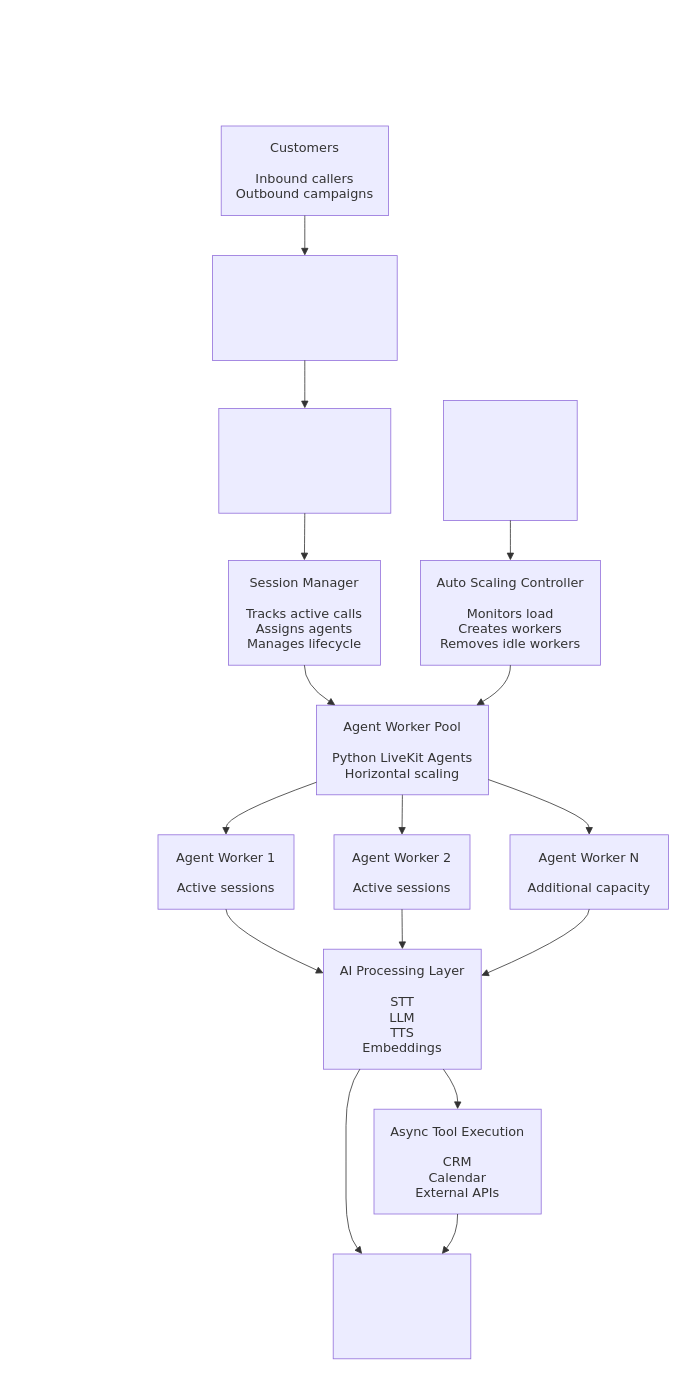
The diagram is 682 pixels wide and 1373 high, and some of its shapes have lost their labels. Each missing label, with the box of its shape:
LiveKit Cluster Realtime audio rooms WebRTC sessions Media routing: (218, 408, 391, 513)
Scaling Metrics Active calls CPU usage Latency Errors: (443, 400, 577, 520)
Shared Services PostgreSQL Redis Queues: (332, 1253, 471, 1359)
Twilio SIP Infrastructure Phone numbers Call routing PSTN connection: (212, 255, 397, 360)
